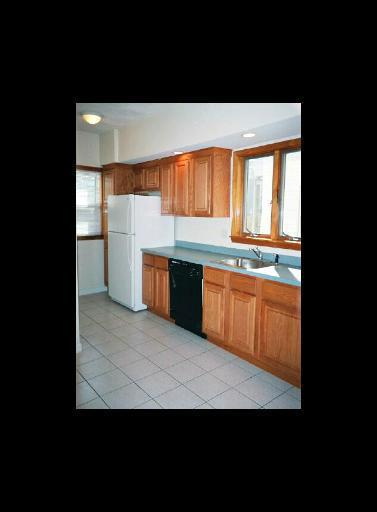Electrodomestico: (105, 196, 143, 309), (170, 258, 203, 333)
Lavaplatos: (221, 239, 277, 275)
